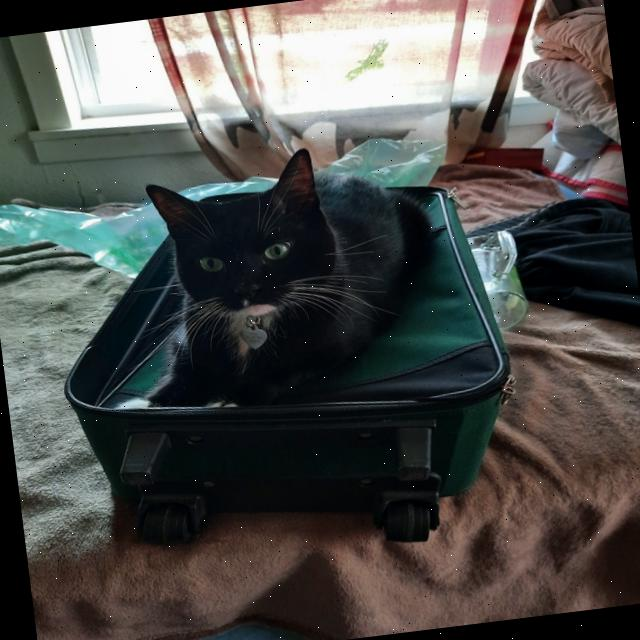manx_cat: (126, 136, 374, 351)
